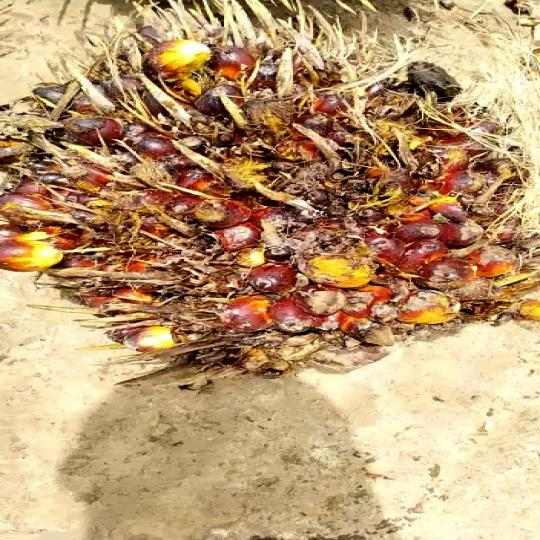terlalu masak: (0, 26, 540, 368)
